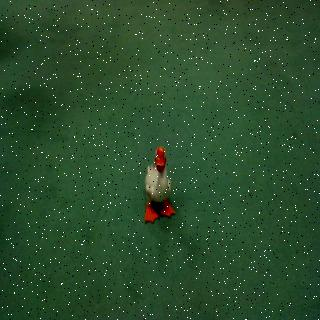duck: (137, 138, 190, 237)
